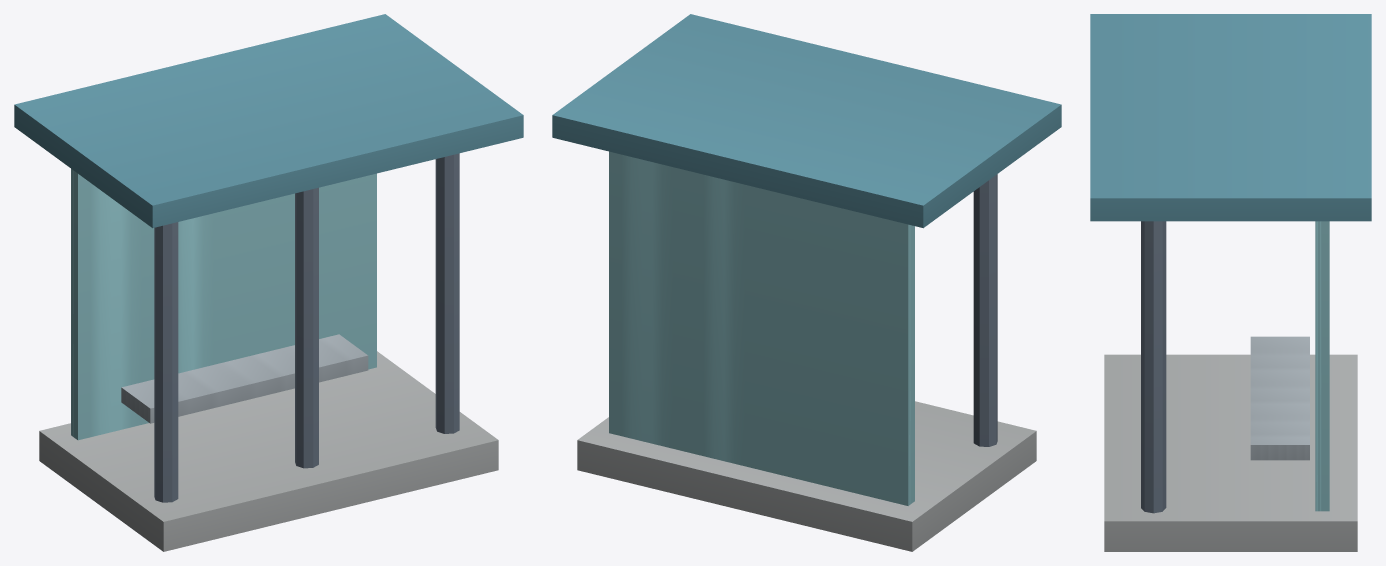
The model's file is bus_stop.glb.
3 views of the same model, side by side, from view 1: azimuth 30°, elevation 25°; view 2: azimuth 150°, elevation 25°; view 3: azimuth 270°, elevation 25° (orthographic).
Visible parts, largest first — view 1: bus_stop; view 2: bus_stop; view 3: bus_stop.
Part boxes in pixels (x1,y1,x2,y2): bus_stop: (14,14,523,551); bus_stop: (552,14,1061,551); bus_stop: (1090,14,1371,551).
Size of the model in its own units: 3.1 by 2.84 by 2.
Materials: 1 (1 with a texture image).
